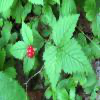Raspberry leaf: (60, 38, 95, 75), (52, 13, 81, 48), (42, 46, 63, 91)
